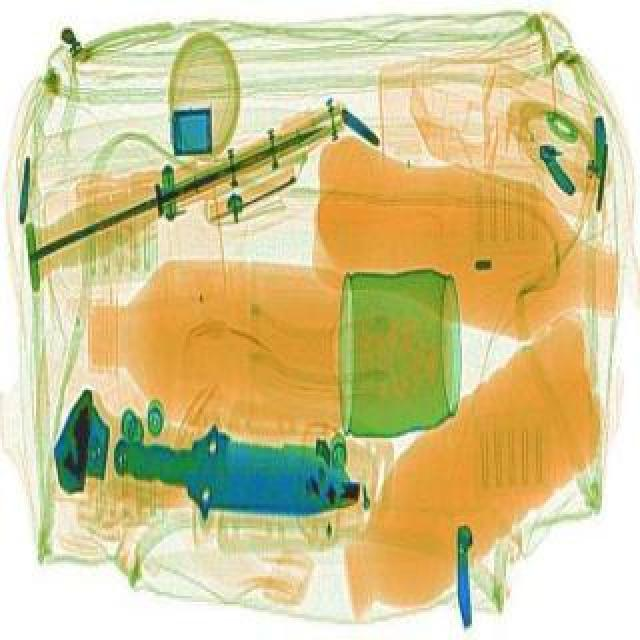knife: (8, 104, 342, 294), (108, 416, 370, 546)
